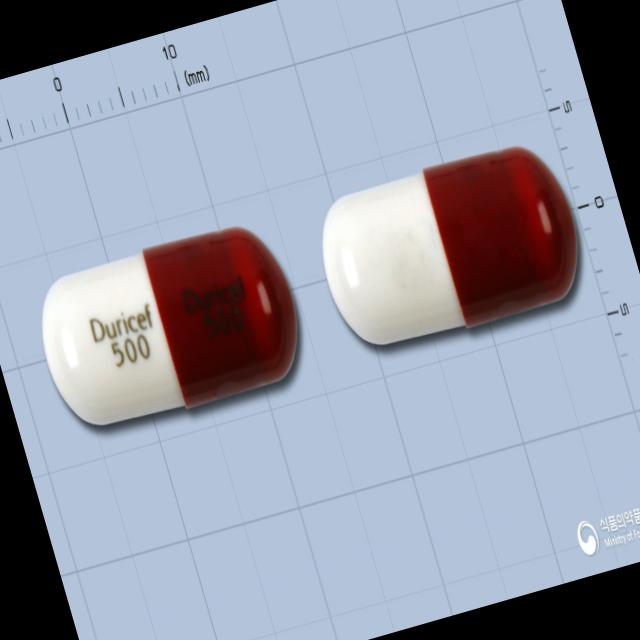Duricef Cap: (23, 211, 314, 444)
